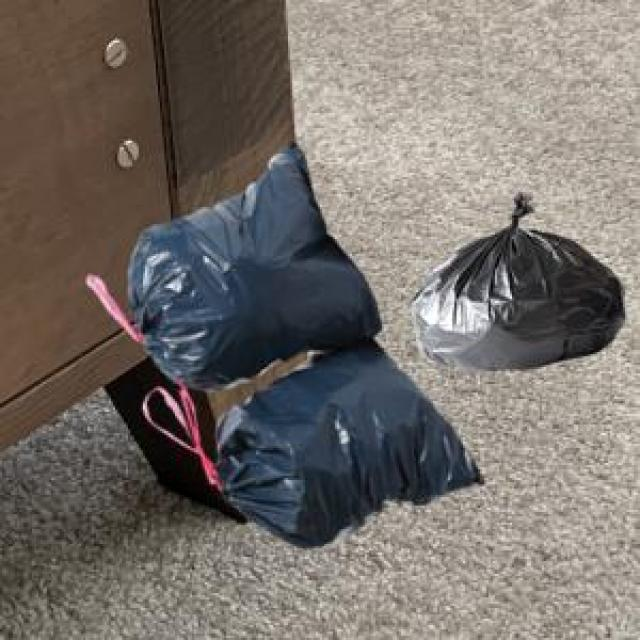Trashbag: (126, 142, 381, 392), (213, 338, 486, 556), (410, 180, 624, 376)
